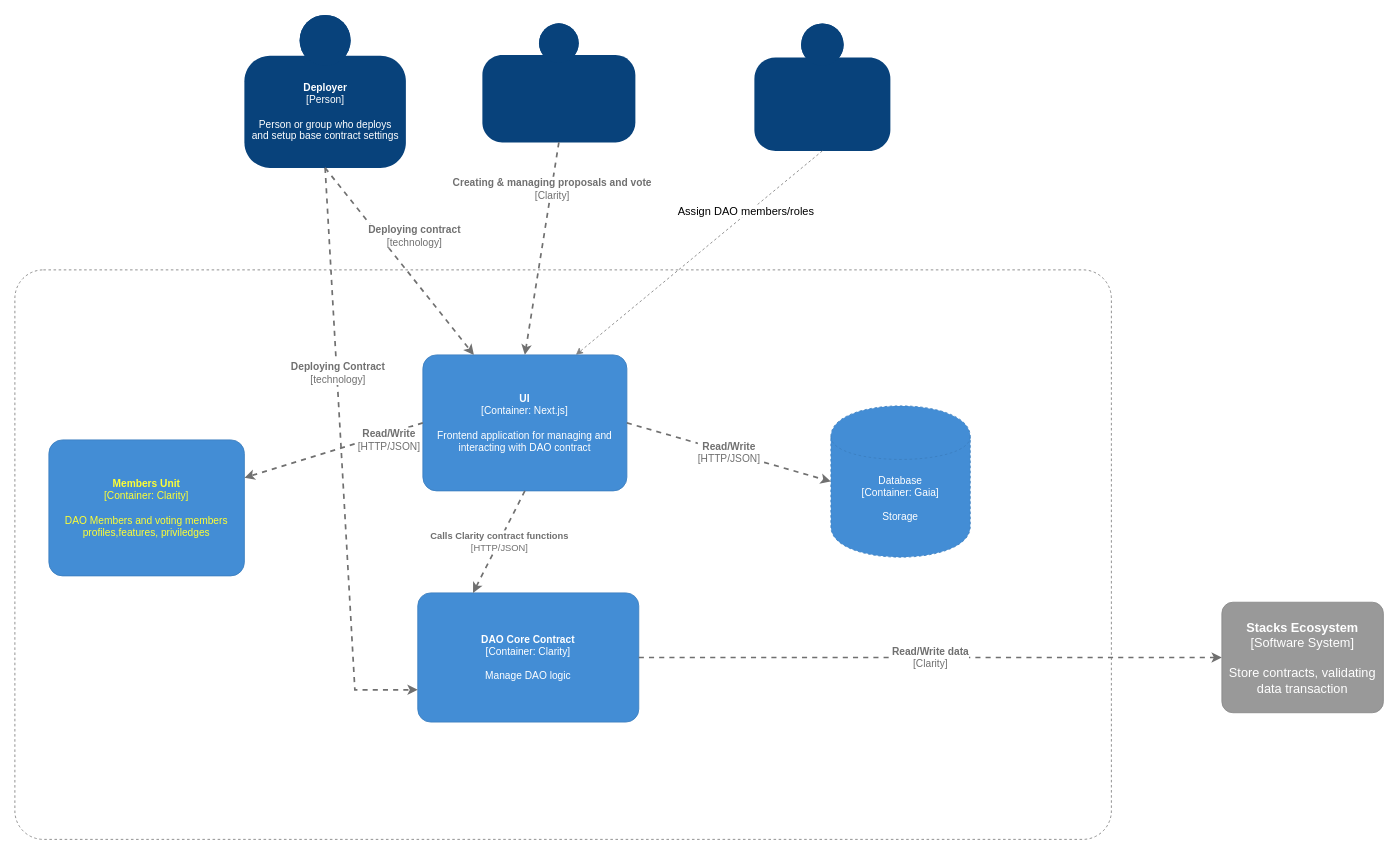
This 1398x854 diagram has some shape labels left out. The box of each missing label's shape, as (x1, y1, x2, y2) in pixels:
DAO Member [Person] DAO non-voting member: (482, 23, 635, 142)
DAO System [Software System]: (14, 269, 1111, 839)
DAO voting Member [Person] Voting Member: (754, 23, 890, 150)
